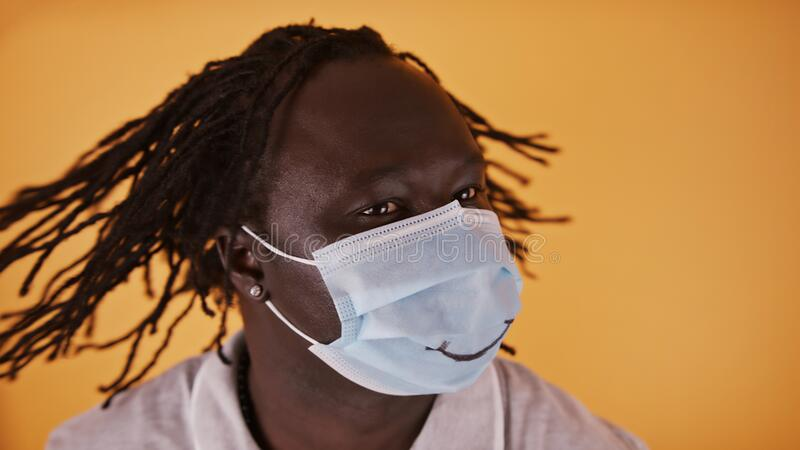WRONG: (288, 140, 516, 388)
